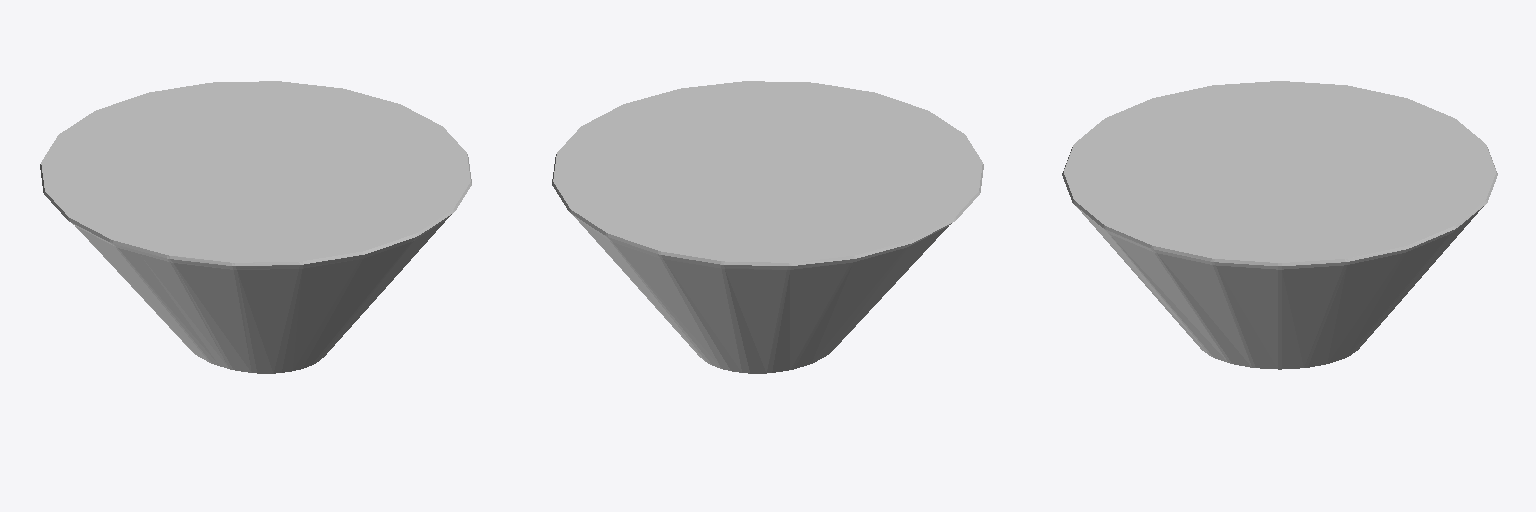
Rendered from island_base.obj.
3 renders of one model, left to right at view 1: azimuth 30°, elevation 25°; view 2: azimuth 150°, elevation 25°; view 3: azimuth 270°, elevation 25°, orthographic.
Visible parts, largest first — view 1: pCylinder1; view 2: pCylinder1; view 3: pCylinder1.
Part boxes in pixels (left/top/right/bottom): pCylinder1: left=40, top=81, right=471, bottom=373; pCylinder1: left=552, top=81, right=983, bottom=373; pCylinder1: left=1062, top=81, right=1497, bottom=369.
Size of the model in its own units: 1166 by 499 by 1172.